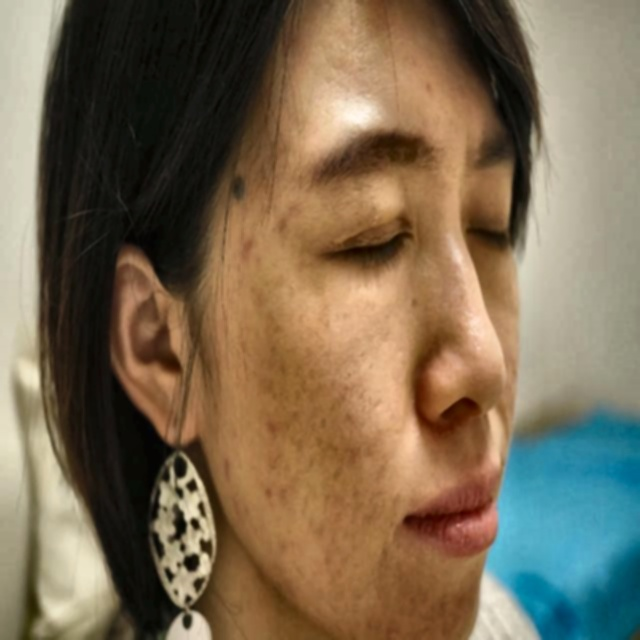comedone: (239, 229, 264, 271), (215, 459, 236, 483)
